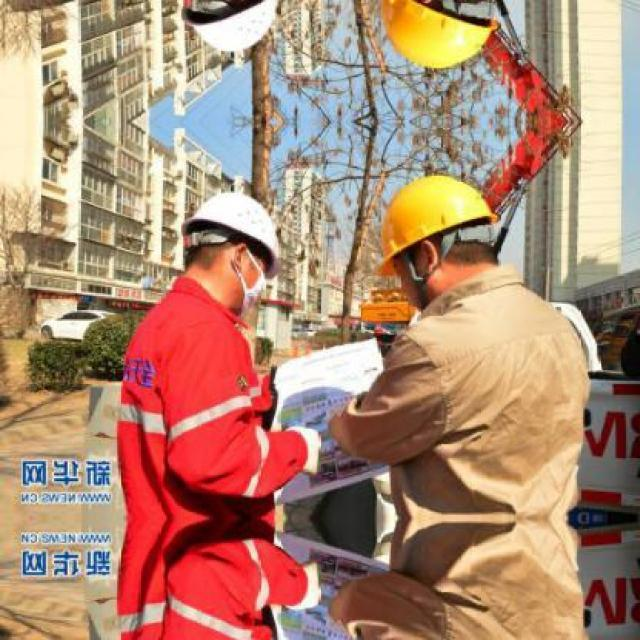reflective_jacket: (363, 277, 604, 519), (103, 290, 304, 523)
safety_helmet: (361, 165, 506, 274), (162, 183, 295, 279)
